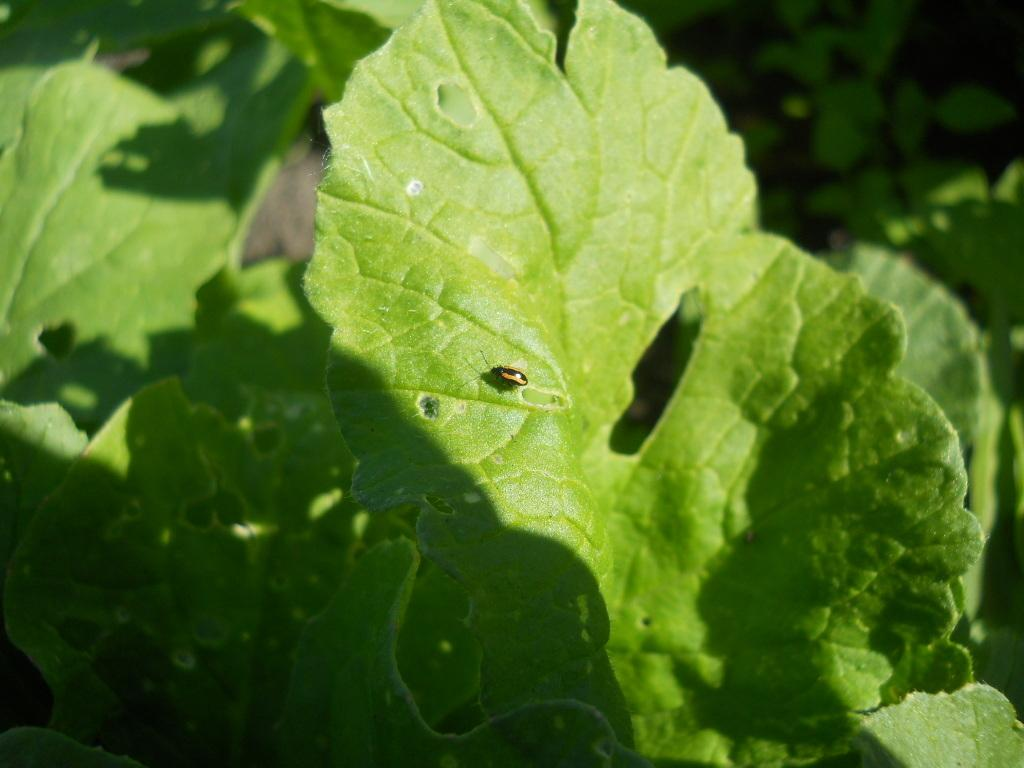flea_beetle: (464, 342, 542, 401)
